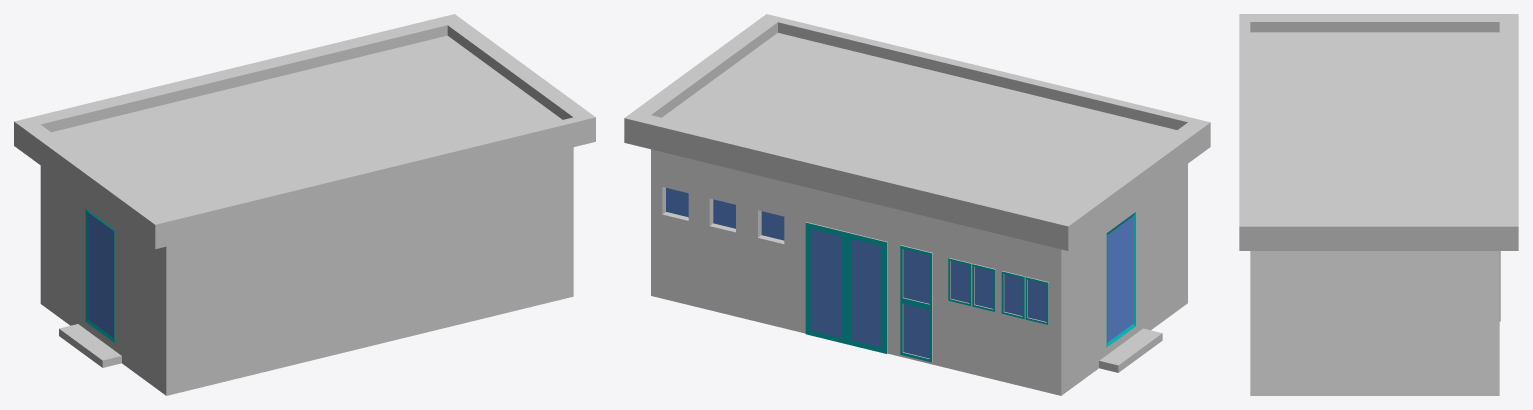
Rendered from Nhà bảo vệ.obj.
3 views of the same model, side by side, from view 1: azimuth 30°, elevation 25°; view 2: azimuth 150°, elevation 25°; view 3: azimuth 270°, elevation 25° (orthographic).
Parts seen in each view (by area): view 1: Mesh1 Group1 Nh__c_nh_c_ng1 Model; view 2: Mesh1 Group1 Nh__c_nh_c_ng1 Model; view 3: Mesh1 Group1 Nh__c_nh_c_ng1 Model.
Boxes of the visible parts, x1,y1,x2,y2 form: Mesh1 Group1 Nh__c_nh_c_ng1 Model: (14, 14, 595, 395); Mesh1 Group1 Nh__c_nh_c_ng1 Model: (624, 14, 1210, 395); Mesh1 Group1 Nh__c_nh_c_ng1 Model: (1239, 14, 1518, 395).
Bounding box in the file's own units: 8418 × 3256 × 4647.
